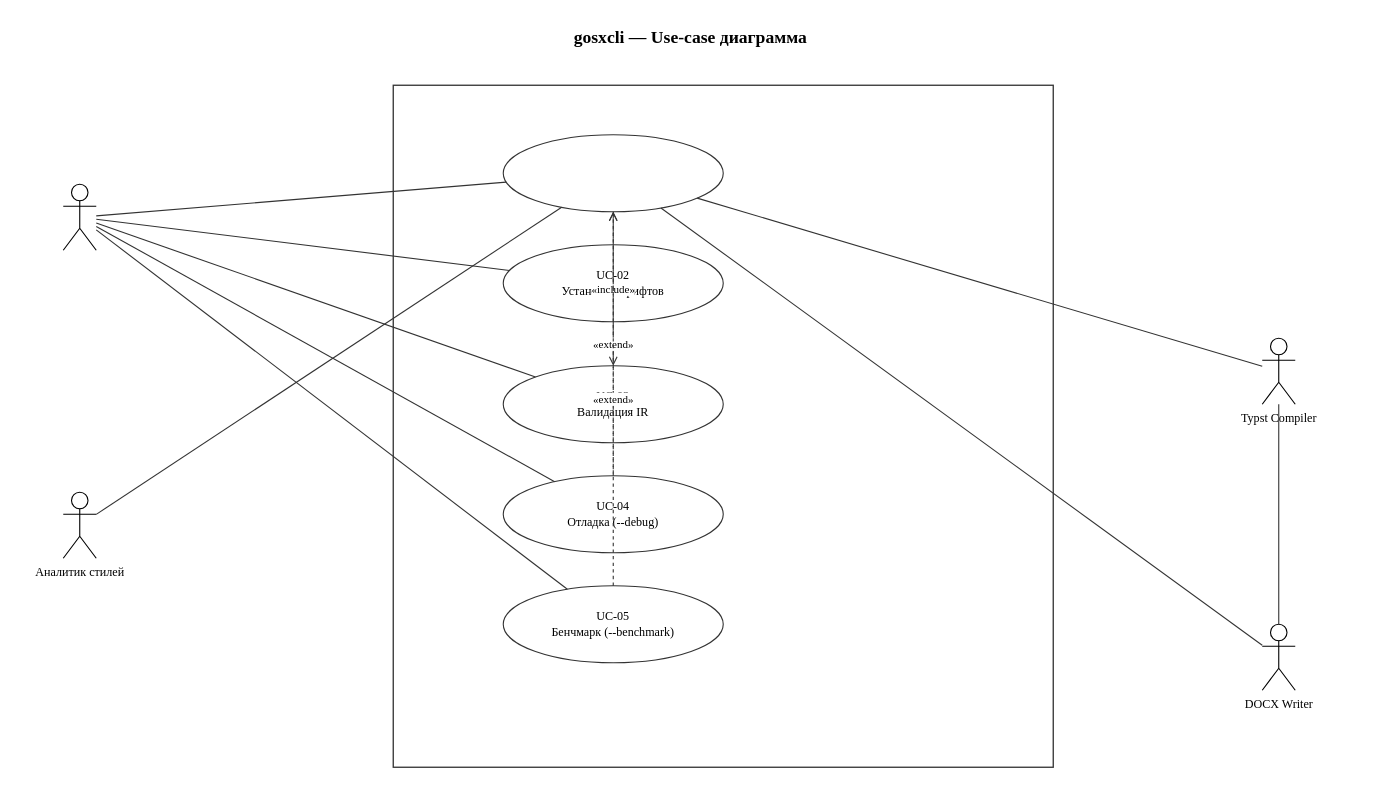
Some shapes in this 1379 by 787 pixel diagram are drawn without their labels. Here are the shapes that lost their labels. From the top down, the box of each, then its label:
(502, 134, 723, 212): UC-01 Конвертация .typ → .docx
(62, 183, 96, 250): Пользователь
(392, 84, 1053, 767): typst-gost-docx
